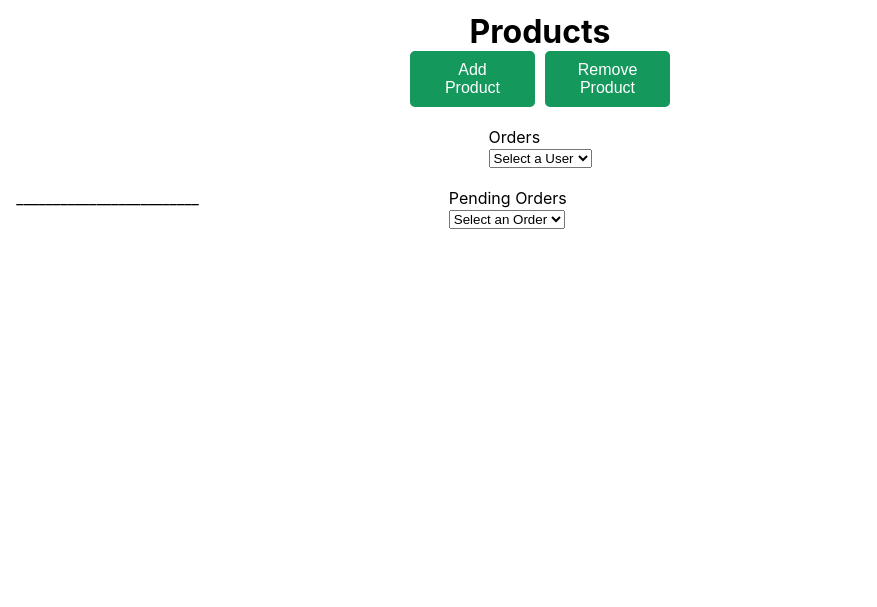
Test: Checkout Process › Admin can add products
This screenshot has width=877, height=607.
Click the button "Add Product".
click(472, 79)  # box [410, 51, 535, 107]
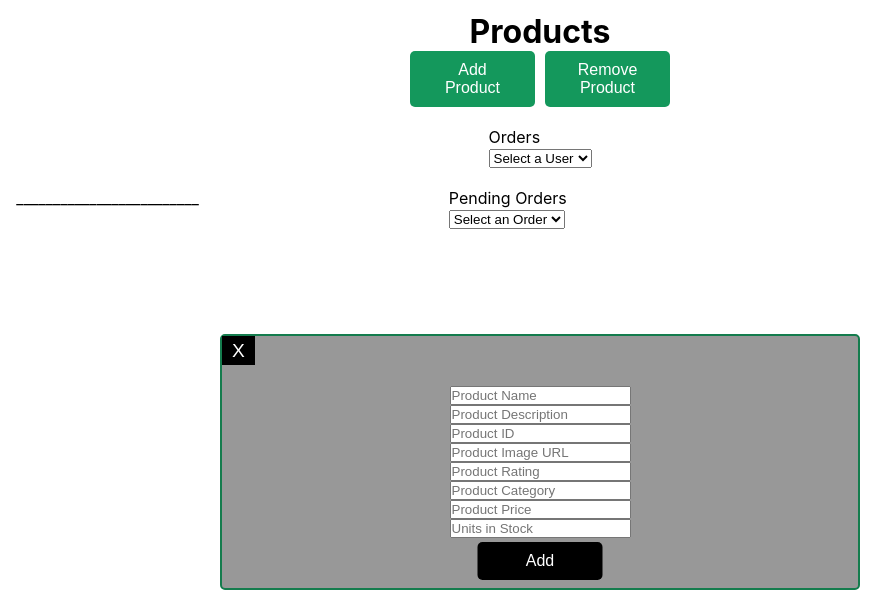
Now the form with test id "addProductForm" is shown, box [450, 386, 630, 538]
